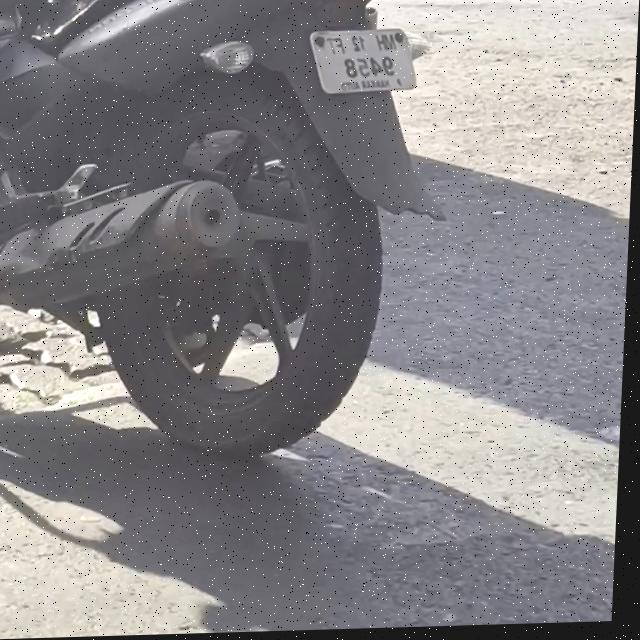plate: (308, 24, 422, 103)
